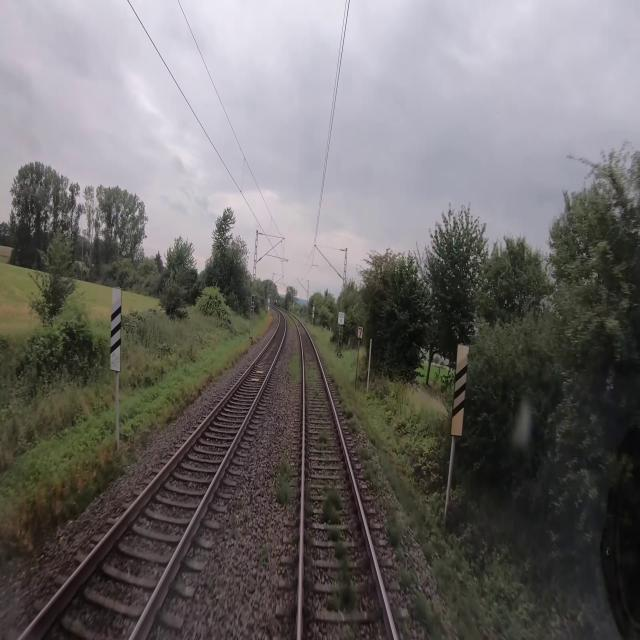Plant: (350, 438, 456, 639), (303, 470, 359, 622), (320, 354, 357, 437), (304, 350, 328, 413), (274, 454, 298, 510), (286, 351, 302, 387), (314, 426, 332, 456), (226, 511, 242, 544), (258, 539, 273, 571)
